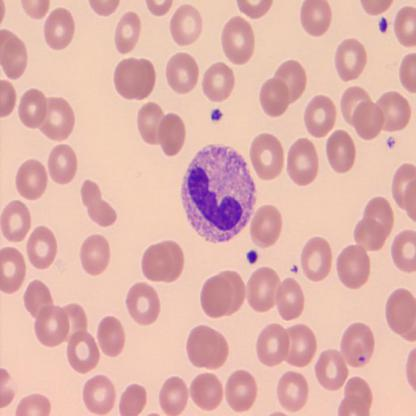Band Neutrophil: (179, 142, 257, 246)
